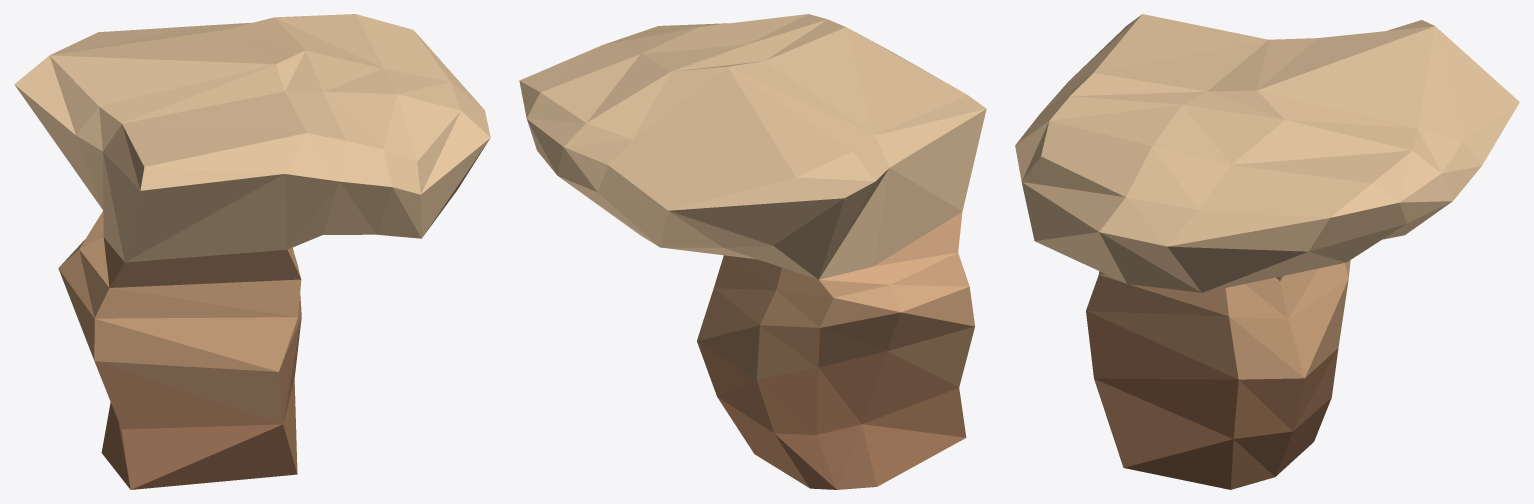
The model's file is canyon-3-0.glb.
The picture shows the model from 3 angles, left to right: view 1: azimuth 30°, elevation 25°; view 2: azimuth 150°, elevation 25°; view 3: azimuth 270°, elevation 25°; orthographic projection. The views are drawn at different scales.
Visible parts, largest first — view 1: canyon-3-0; view 2: canyon-3-0; view 3: canyon-3-0.
Part boxes in pixels (left/top/right/bottom): canyon-3-0: left=14, top=14, right=490, bottom=489; canyon-3-0: left=519, top=14, right=986, bottom=489; canyon-3-0: left=1015, top=14, right=1519, bottom=489.
Size of the model in its own units: 24.87 by 24 by 25.54.
